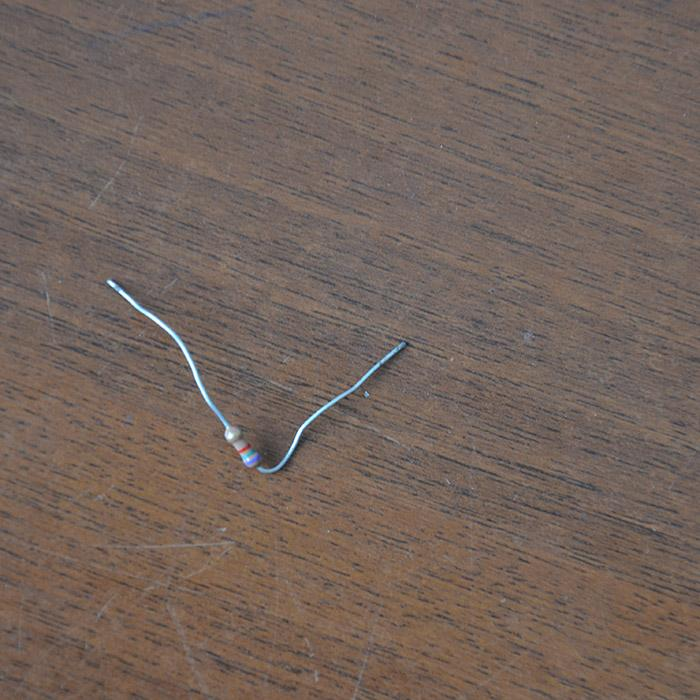resistor: (223, 424, 260, 467)
